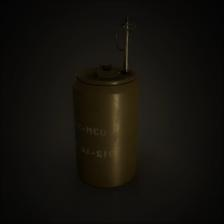OZM-72: (71, 65, 144, 194)
